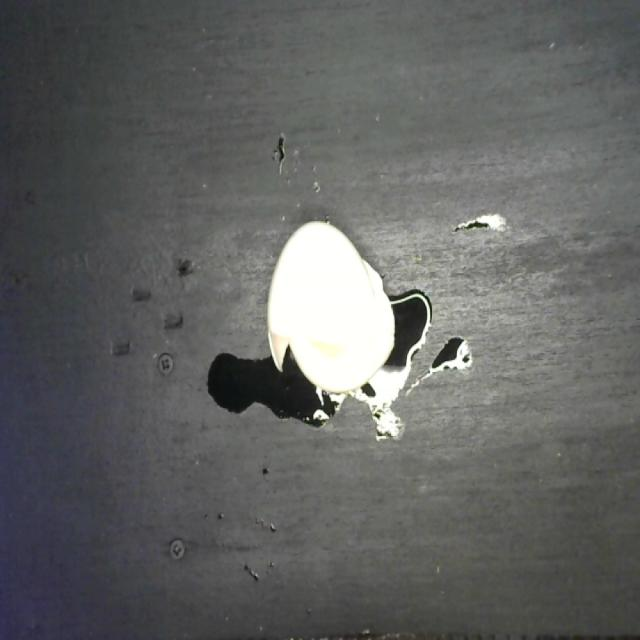biodegradable: (264, 218, 398, 403)
